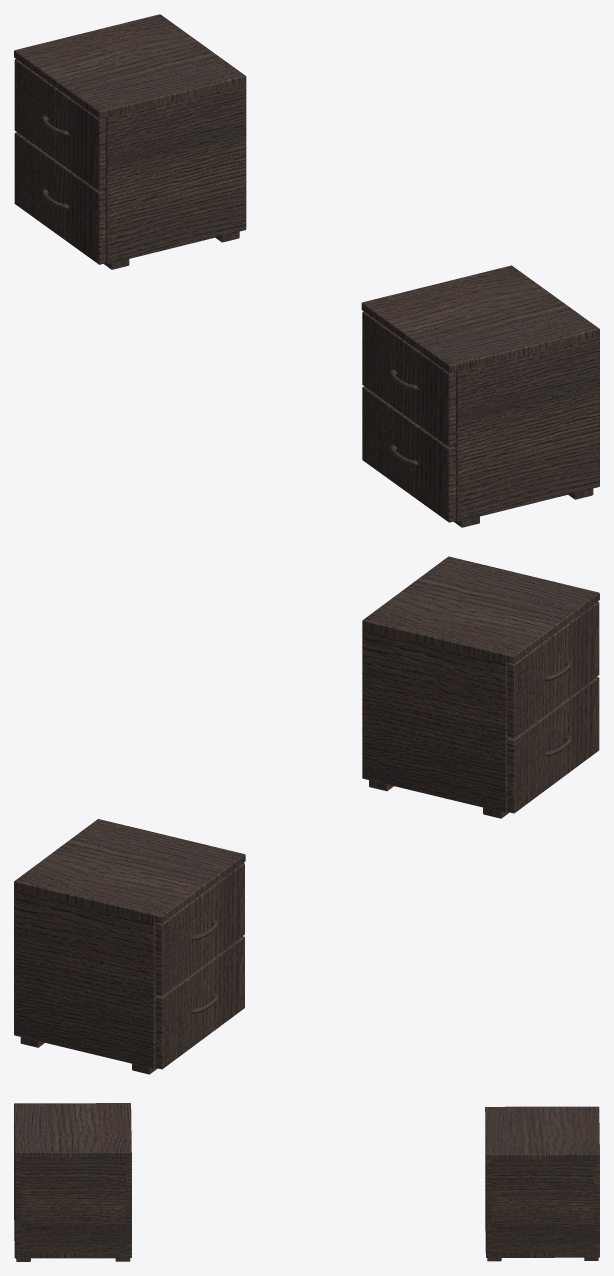
Rendered from MesasNoche.obj.
The picture shows the model from 3 angles, top to bottom: view 1: azimuth 30°, elevation 25°; view 2: azimuth 150°, elevation 25°; view 3: azimuth 270°, elevation 25°; orthographic projection. The views are drawn at different scales.
Visible parts, largest first — view 1: Nightstand_Cube.084, Nightstand_Cube.001; view 2: Nightstand_Cube.084, Nightstand_Cube.001; view 3: Nightstand_Cube.084, Nightstand_Cube.001.
Boxes of the visible parts, x1,y1,x2,y2 form: Nightstand_Cube.084: [361, 265, 599, 527]; Nightstand_Cube.001: [14, 14, 246, 269]; Nightstand_Cube.084: [362, 556, 599, 818]; Nightstand_Cube.001: [14, 819, 245, 1074]; Nightstand_Cube.084: [14, 1103, 131, 1261]; Nightstand_Cube.001: [485, 1106, 599, 1261].
Bounding box in the file's own units: 2.89 × 2.87 × 13.69.
2 materials, 2 textured.
